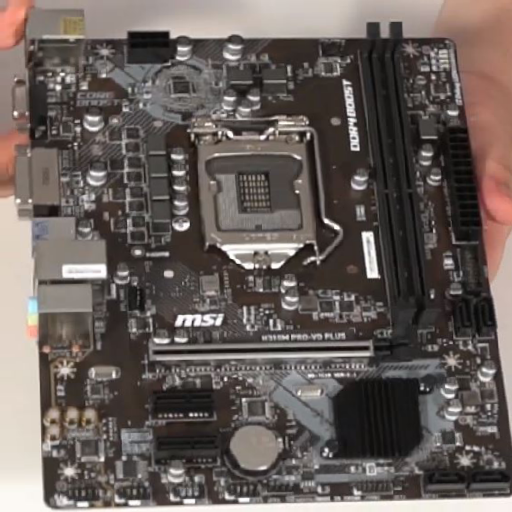CPU: (194, 115, 317, 270)
GPU: (148, 330, 419, 366)
MOTHERBOARD: (29, 38, 512, 503)
RAM: (362, 20, 431, 329)
